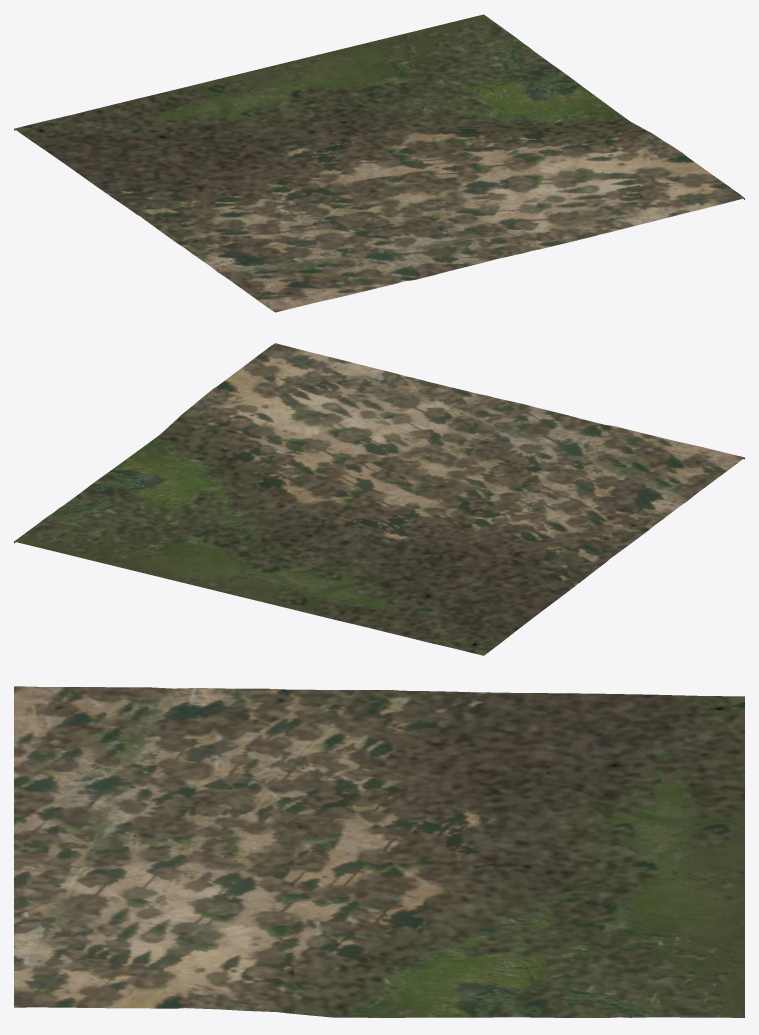
3 views of the same model, one above another, from view 1: azimuth 30°, elevation 25°; view 2: azimuth 150°, elevation 25°; view 3: azimuth 270°, elevation 25° (orthographic). The views are drawn at different scales.
Bounding box in the file's own units: 250 × 5.12 × 241.
Materials: 1 (1 with a texture image).
